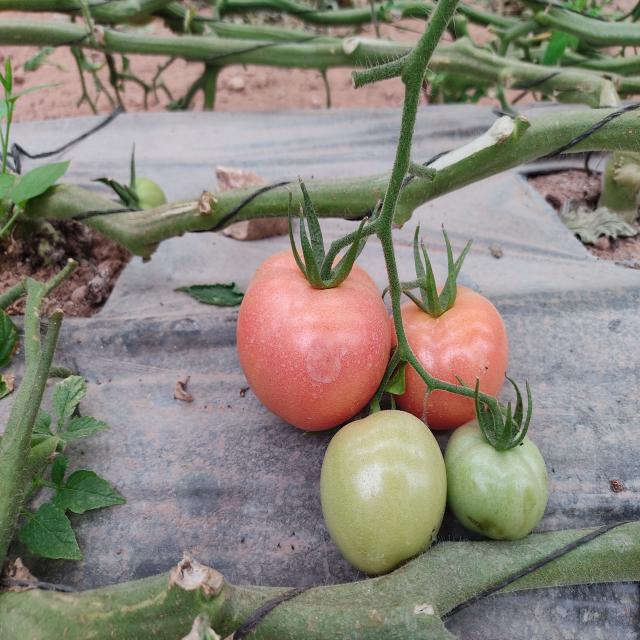Ripe Tomato: (241, 248, 390, 427), (388, 278, 509, 432)
Unripe Tomato: (318, 406, 445, 574), (446, 416, 552, 541)
